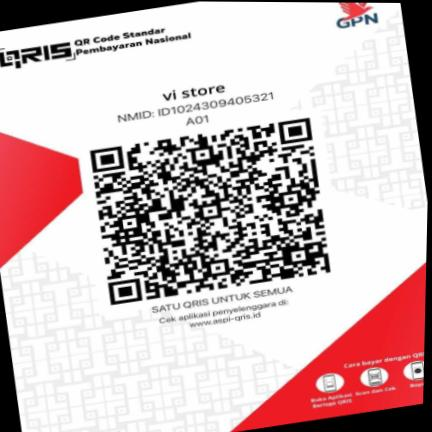Barcode_Asli: (75, 106, 346, 315)
